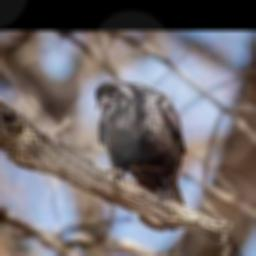Crow: (94, 80, 187, 232)
